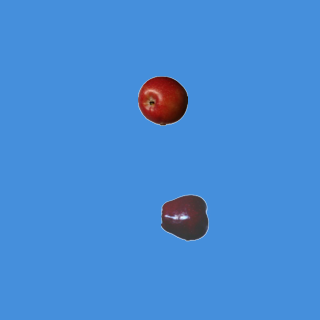Apple Braeburn: (137, 75, 187, 125)
Apple Red Delicious: (160, 192, 210, 242)
